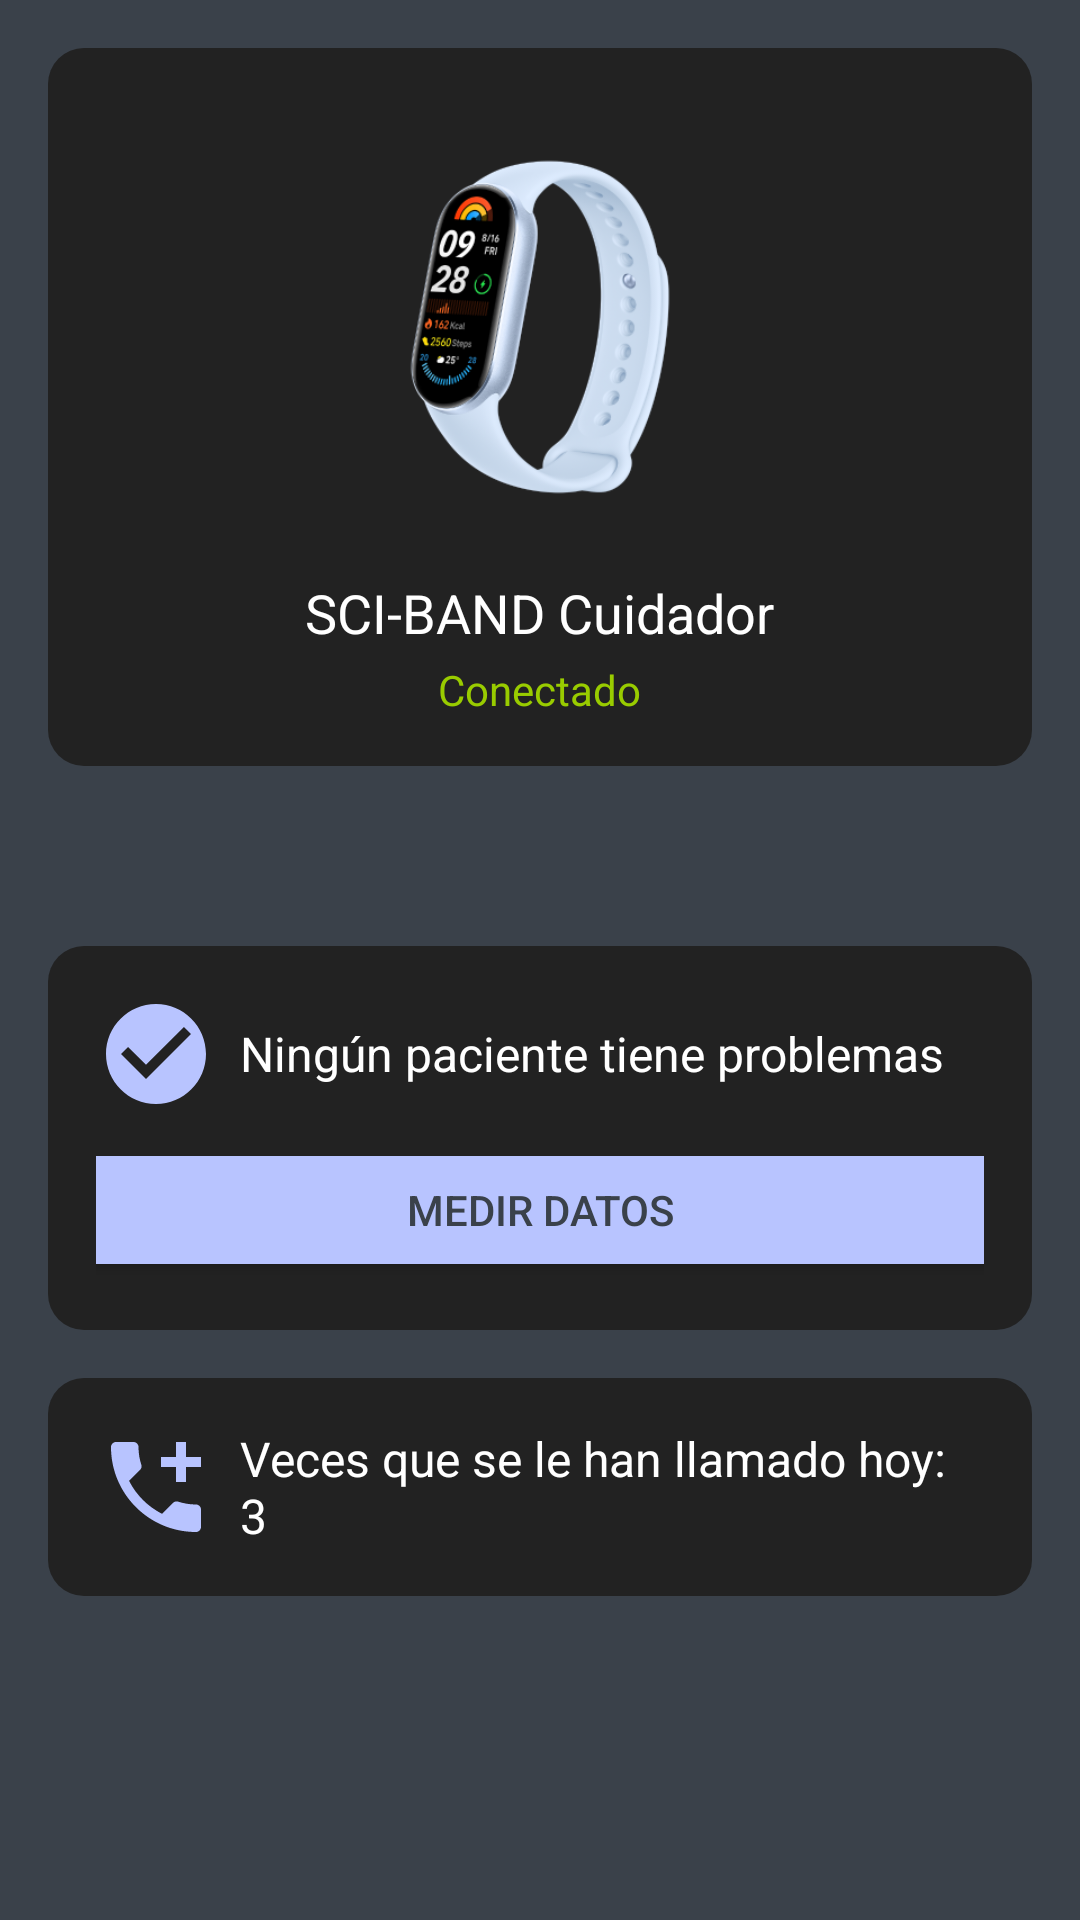

Screen size 1080px x 1920px. Icon name, then its center in pixels as (x,y):
check: (156,1054)
pulsera: (540,327)
